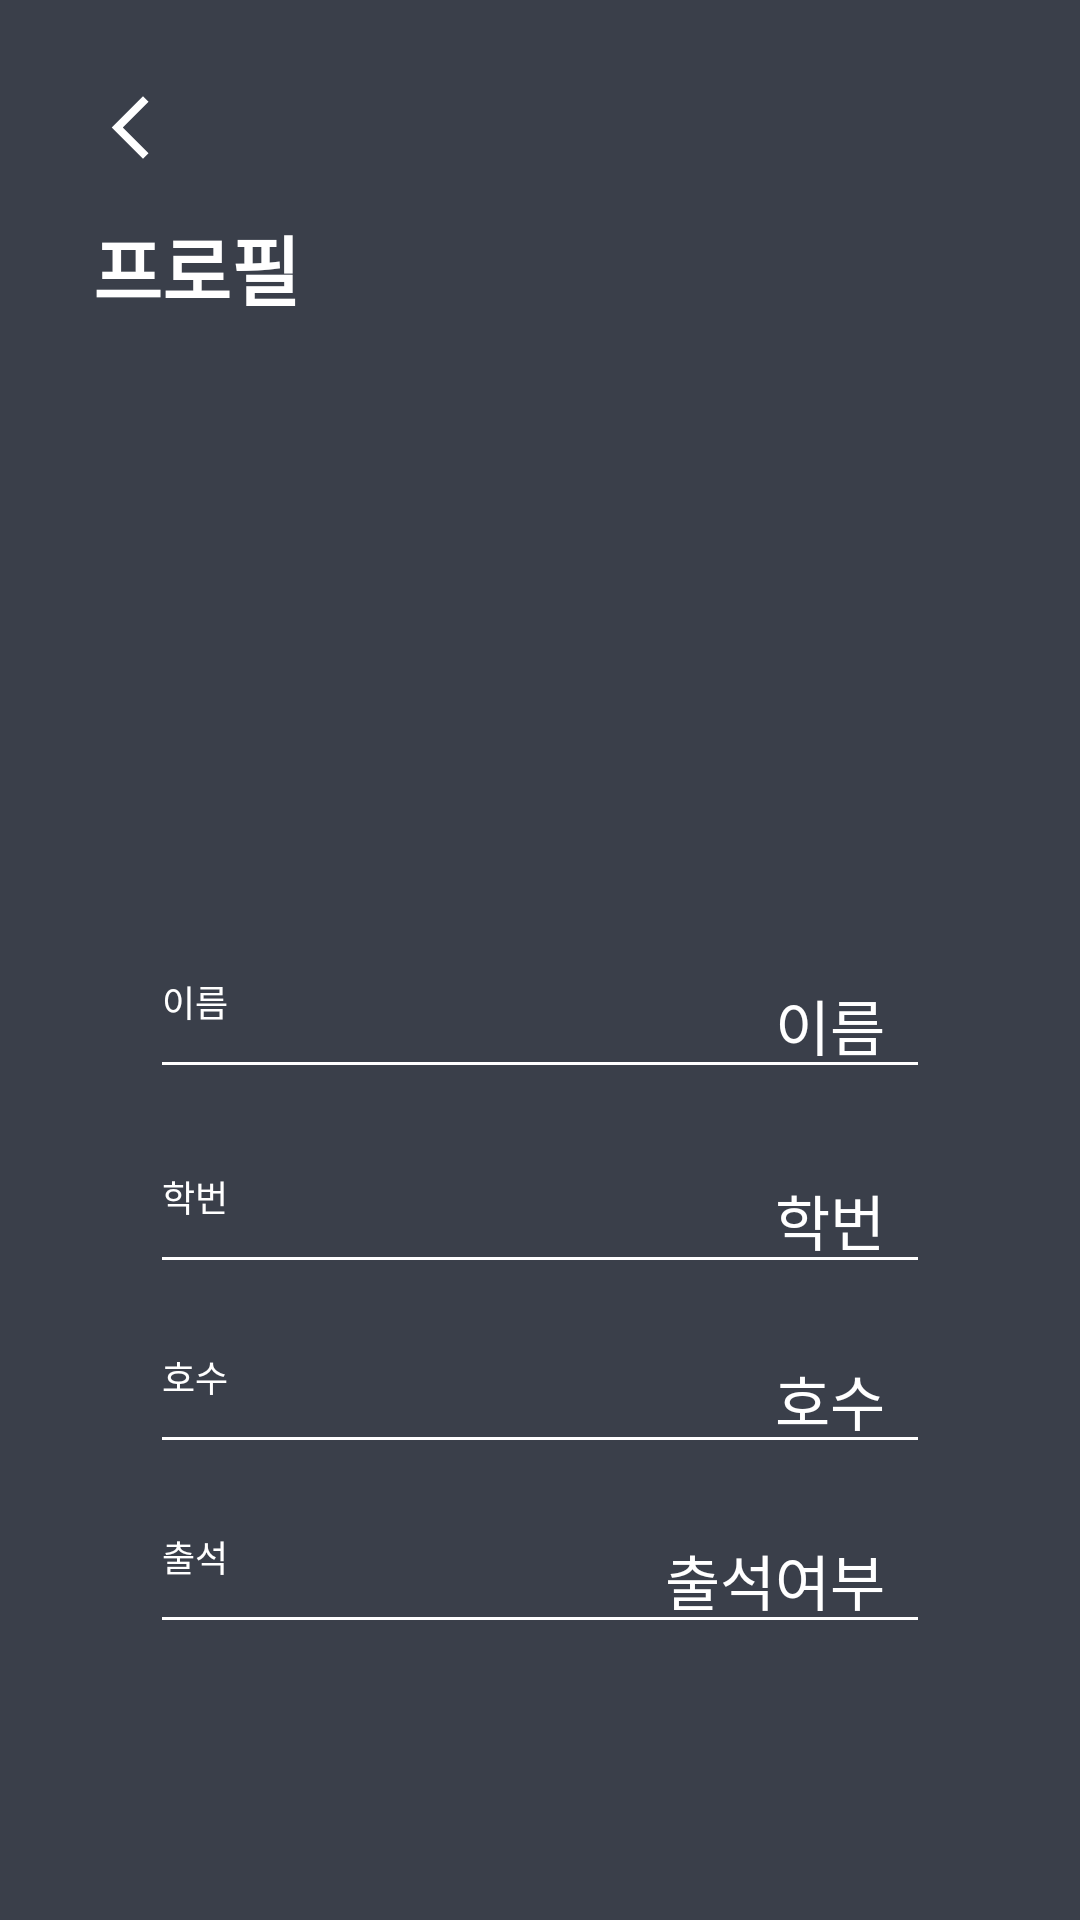

Where to tap for icons on this 1080*1920 app screen, as (x,y):
arrow back: (130,127)
